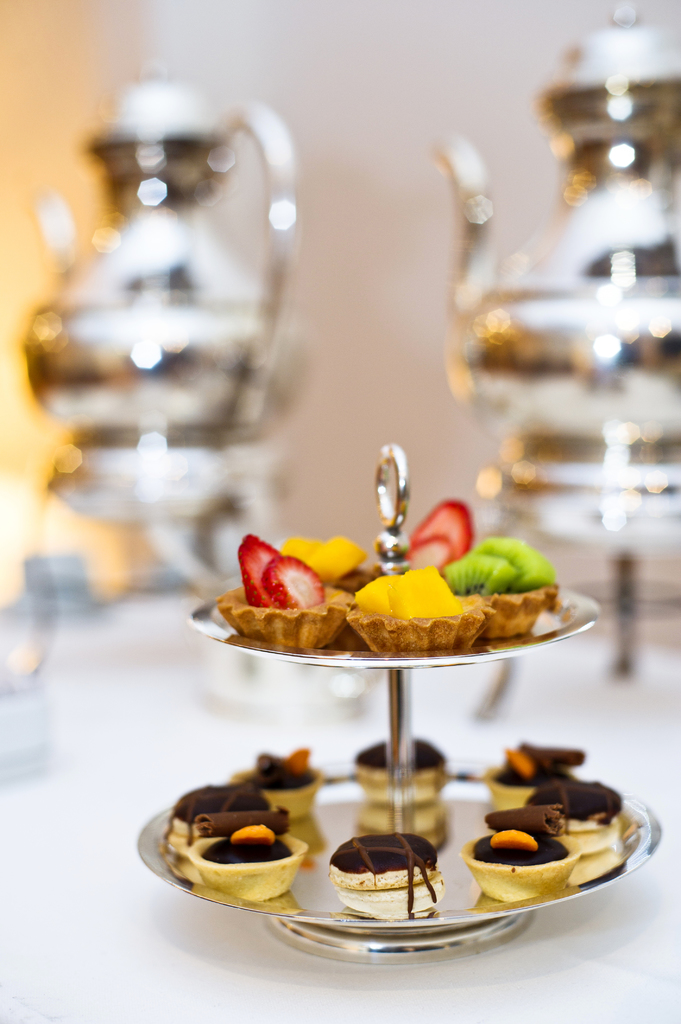plate: (186, 588, 600, 672)
